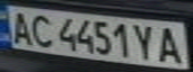1: (109, 20, 133, 58)
4: (54, 15, 78, 52), (72, 16, 93, 54)
5: (90, 18, 115, 56)
A: (154, 24, 187, 65), (6, 8, 36, 46)
C: (27, 11, 57, 48)
Y: (130, 21, 160, 61)
